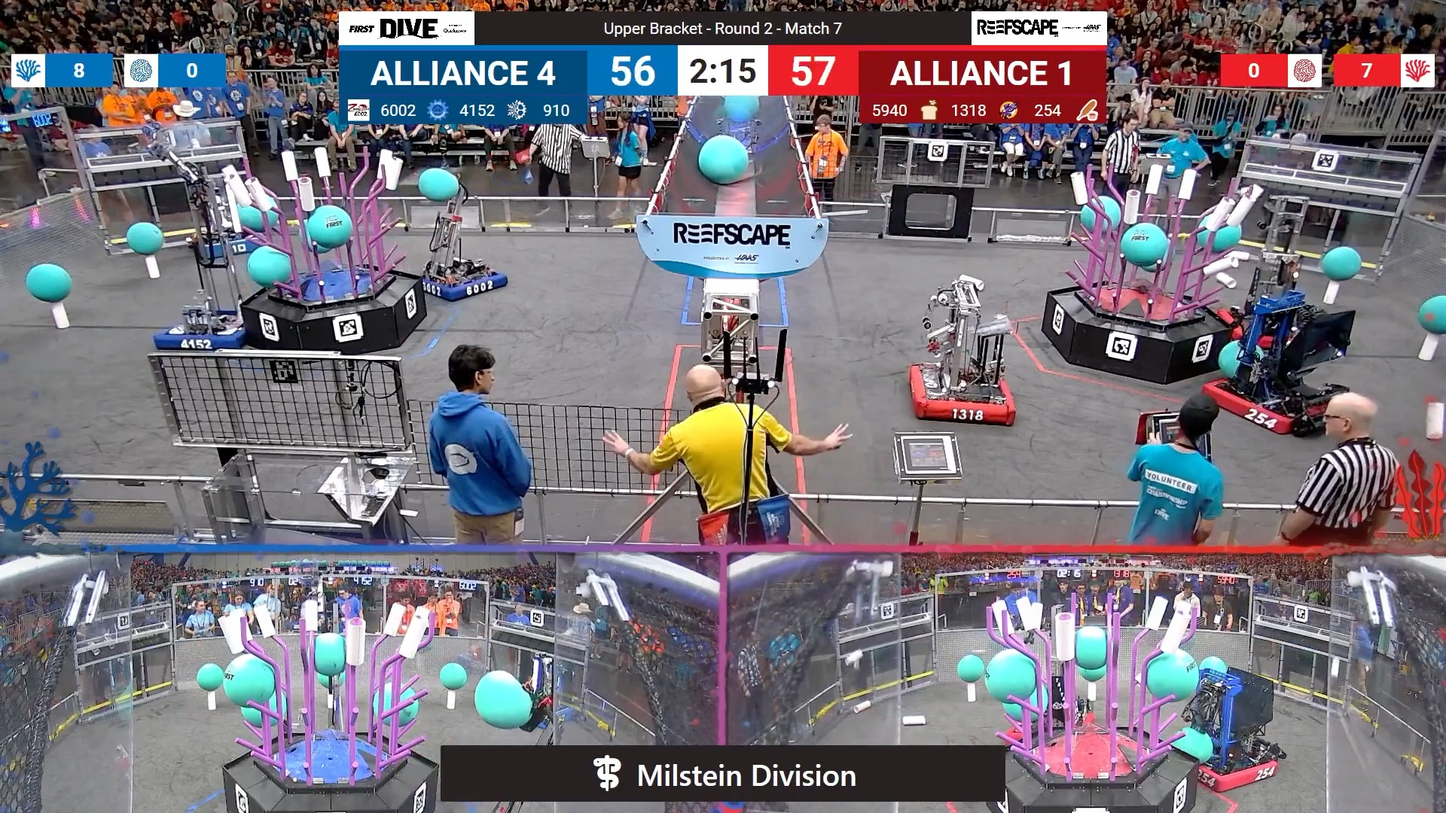bumpers: (1191, 369, 1348, 441), (904, 365, 1021, 431), (1176, 743, 1285, 791), (157, 305, 252, 352), (411, 263, 517, 302), (187, 239, 268, 268)
